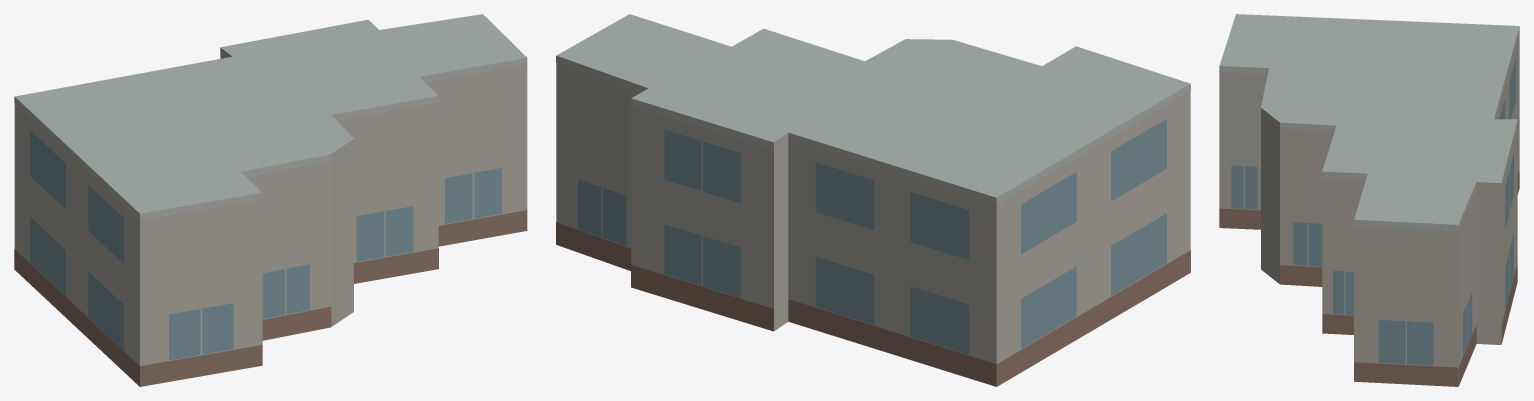
Rendered from survey-upis-32853090.glb.
The picture shows the model from 3 angles, left to right: view 1: azimuth 30°, elevation 25°; view 2: azimuth 150°, elevation 25°; view 3: azimuth 270°, elevation 25°; orthographic projection. The views are drawn at different scales.
Parts seen in each view (by area): view 1: survey-upis-32853090.tmp; view 2: survey-upis-32853090.tmp; view 3: survey-upis-32853090.tmp.
Part boxes in pixels (bbox=[...]): survey-upis-32853090.tmp: bbox=[14, 14, 527, 386]; survey-upis-32853090.tmp: bbox=[556, 14, 1190, 386]; survey-upis-32853090.tmp: bbox=[1219, 14, 1519, 386].
Bounding box in the file's own units: 17.04 × 6.1 × 10.25.
